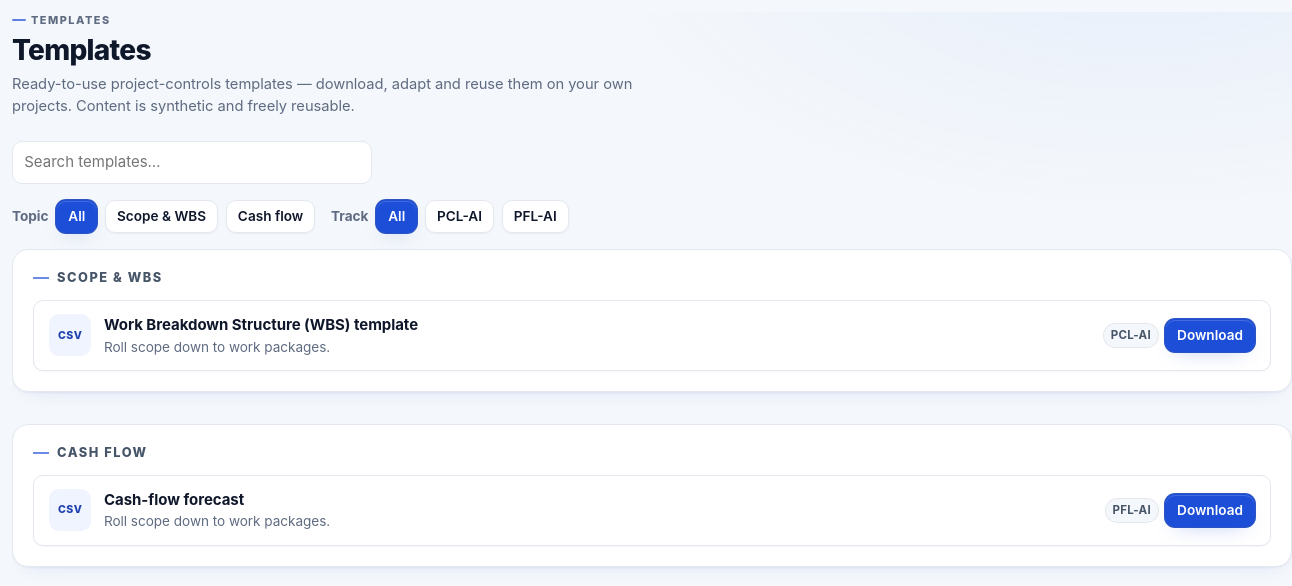
Templates (student portal) › filters the list by the search box (title/summary match)
Expected: the text "Work Breakdown Structure (WBS) template" is shown, [104, 315, 418, 334]
Expected: the text "Cash-flow forecast" is shown, [104, 490, 244, 509]
# Searching for "cash" leaves only the cash-flow template.
Type "cash" into the search field labelled "Search templates". click: (192, 162)
box: [12, 141, 372, 184]
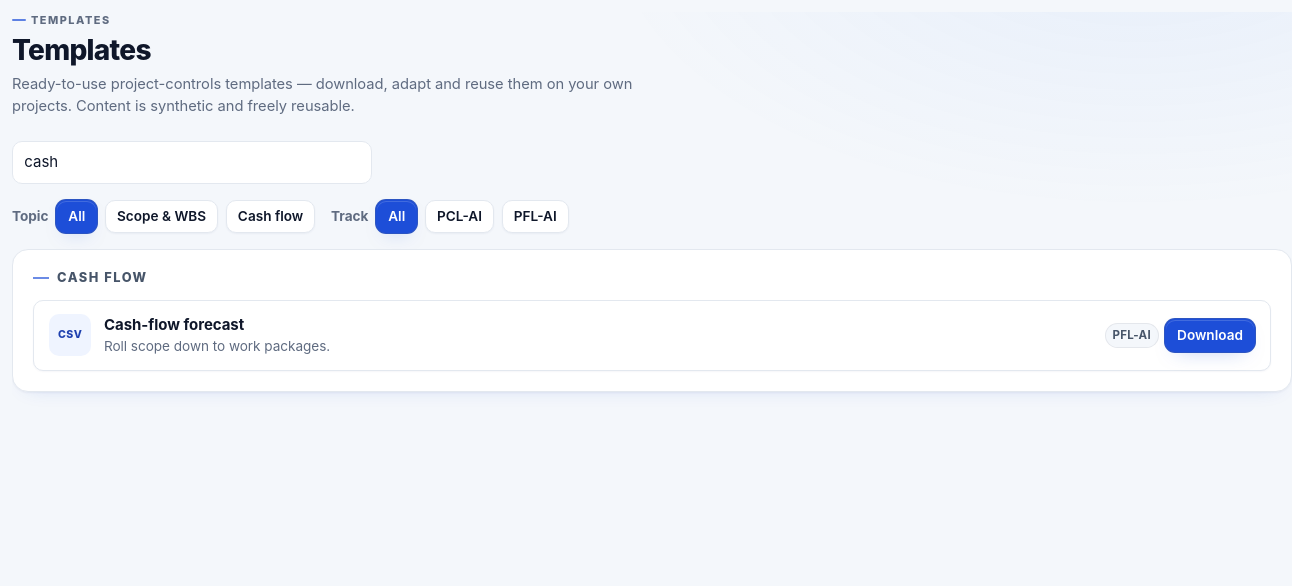
Expected: the text "Cash-flow forecast" is shown, [104, 315, 244, 334]
Expected: the text "Work Breakdown Structure (WBS) template" is gone
# A term that matches nothing shows the empty-filter message.
Replace the text in the search field named "Search templates" with "zzzzz". click: (192, 162)
box: [12, 141, 372, 184]
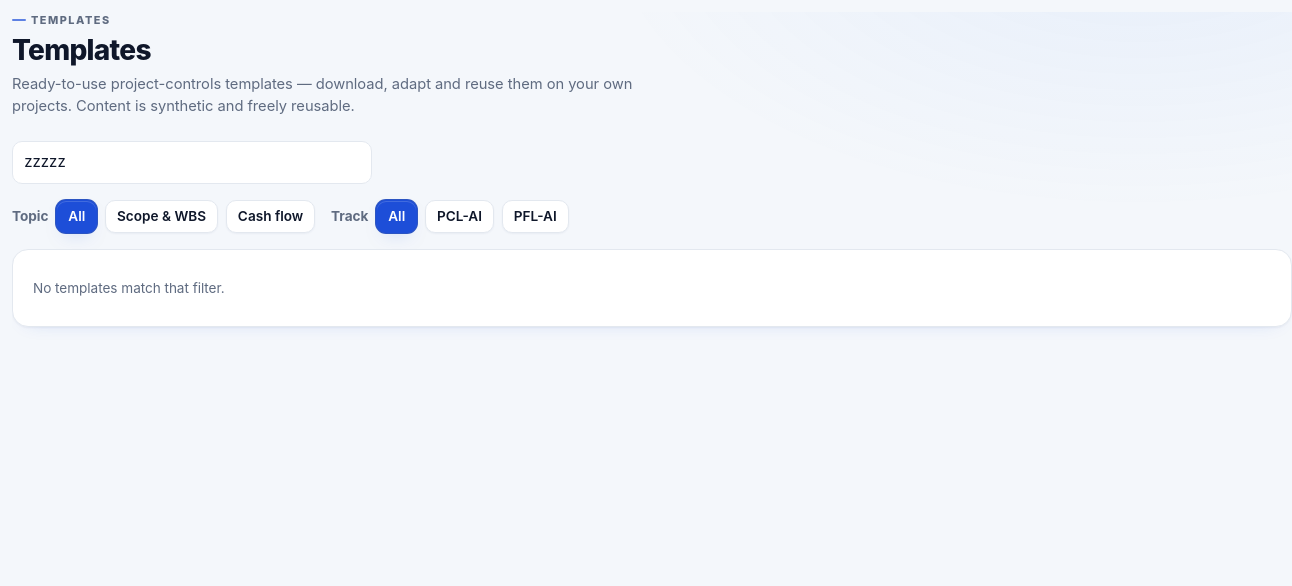
Expected: the text "No templates match that filter." is shown, [33, 280, 225, 296]
